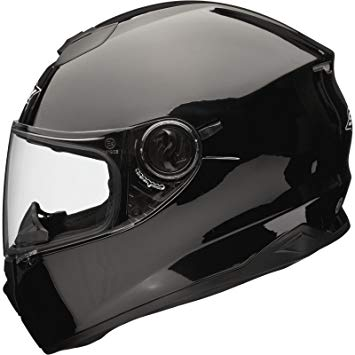helmet: (5, 3, 353, 355)
